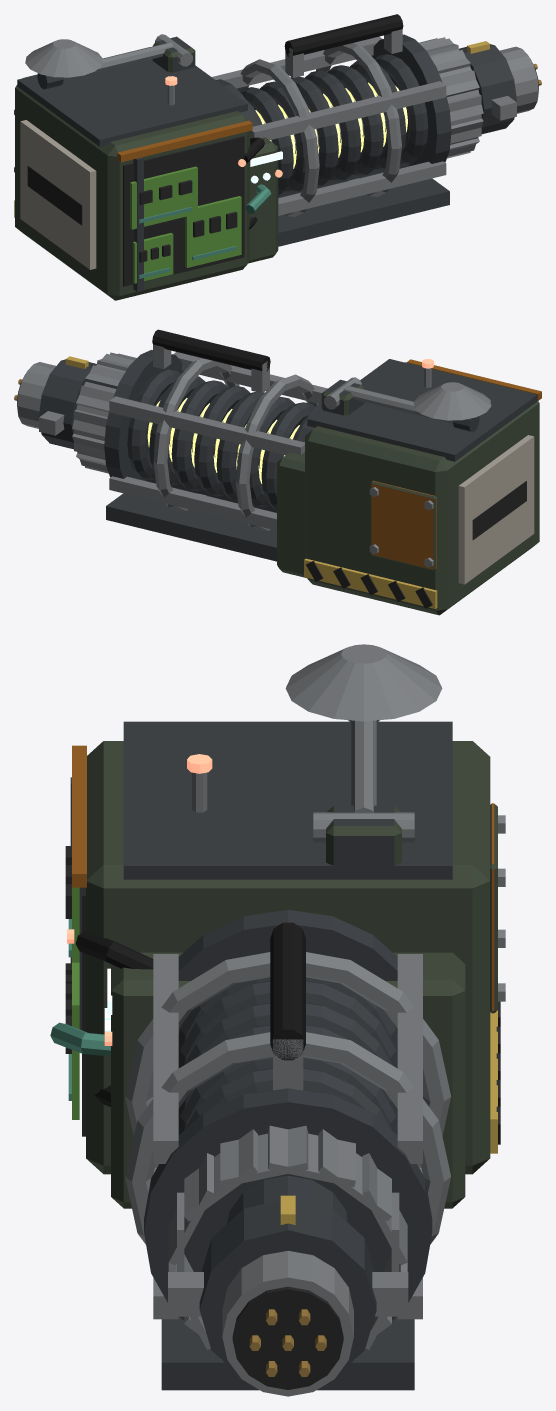
Rendered from dish_transmitter.fbx.
The picture shows the model from 3 angles, top to bottom: view 1: azimuth 30°, elevation 25°; view 2: azimuth 150°, elevation 25°; view 3: azimuth 270°, elevation 25°; orthographic projection. The views are drawn at different scales.
Parts seen in each view (by area): view 1: DishTransmitter; view 2: DishTransmitter; view 3: DishTransmitter.
Part boxes in pixels (left/top/right/bottom): DishTransmitter: left=14, top=14, right=541, bottom=300; DishTransmitter: left=14, top=329, right=541, bottom=615; DishTransmitter: left=50, top=644, right=505, bottom=1396.
Bounding box in the file's own units: 132 × 53.7 × 54.01.
